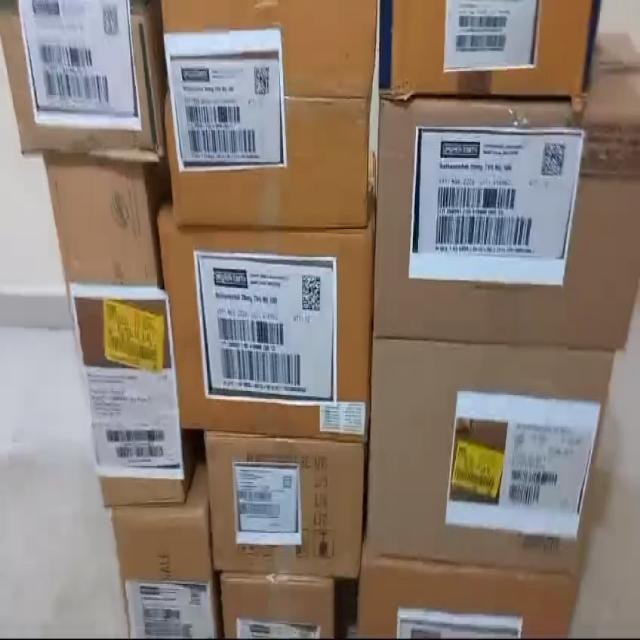BoxFace: (376, 91, 640, 356), (371, 334, 613, 570), (160, 0, 378, 243), (46, 162, 185, 502), (161, 230, 371, 441), (206, 426, 369, 583), (1, 1, 158, 160), (385, 0, 609, 97), (359, 546, 590, 640), (106, 493, 216, 639), (220, 576, 337, 640)
